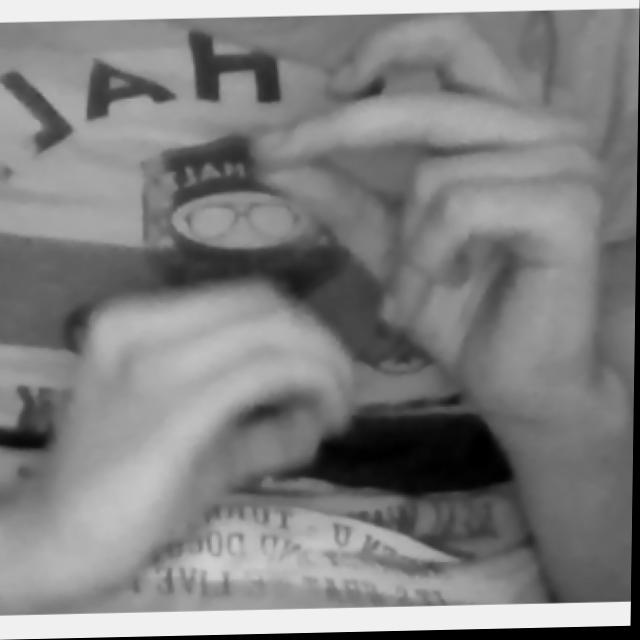O--: (17, 83, 622, 612)
